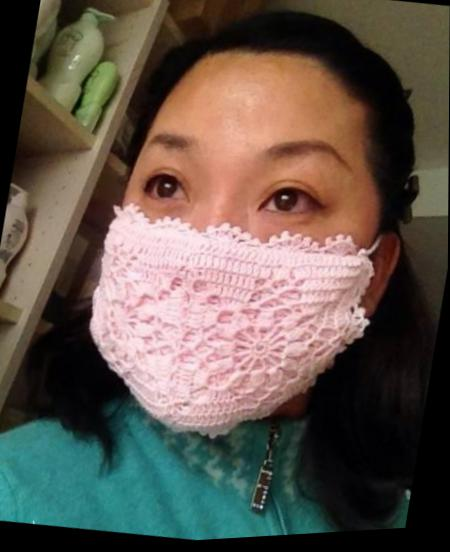WRONG: (68, 110, 405, 468)
